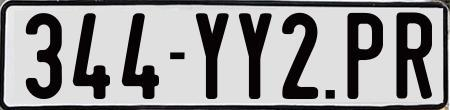2: (281, 10, 320, 102)
3: (26, 13, 62, 101)
4: (72, 12, 112, 104), (119, 10, 160, 96)
P: (345, 12, 386, 101)
R: (393, 9, 435, 98)
Y: (237, 12, 272, 103), (194, 10, 227, 99)
